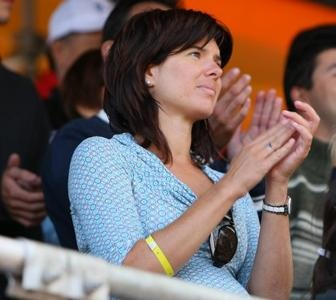person without safety: (61, 4, 235, 267)
